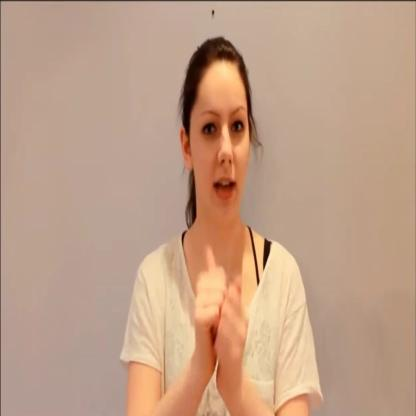HowAreYou: (173, 230, 254, 383)
